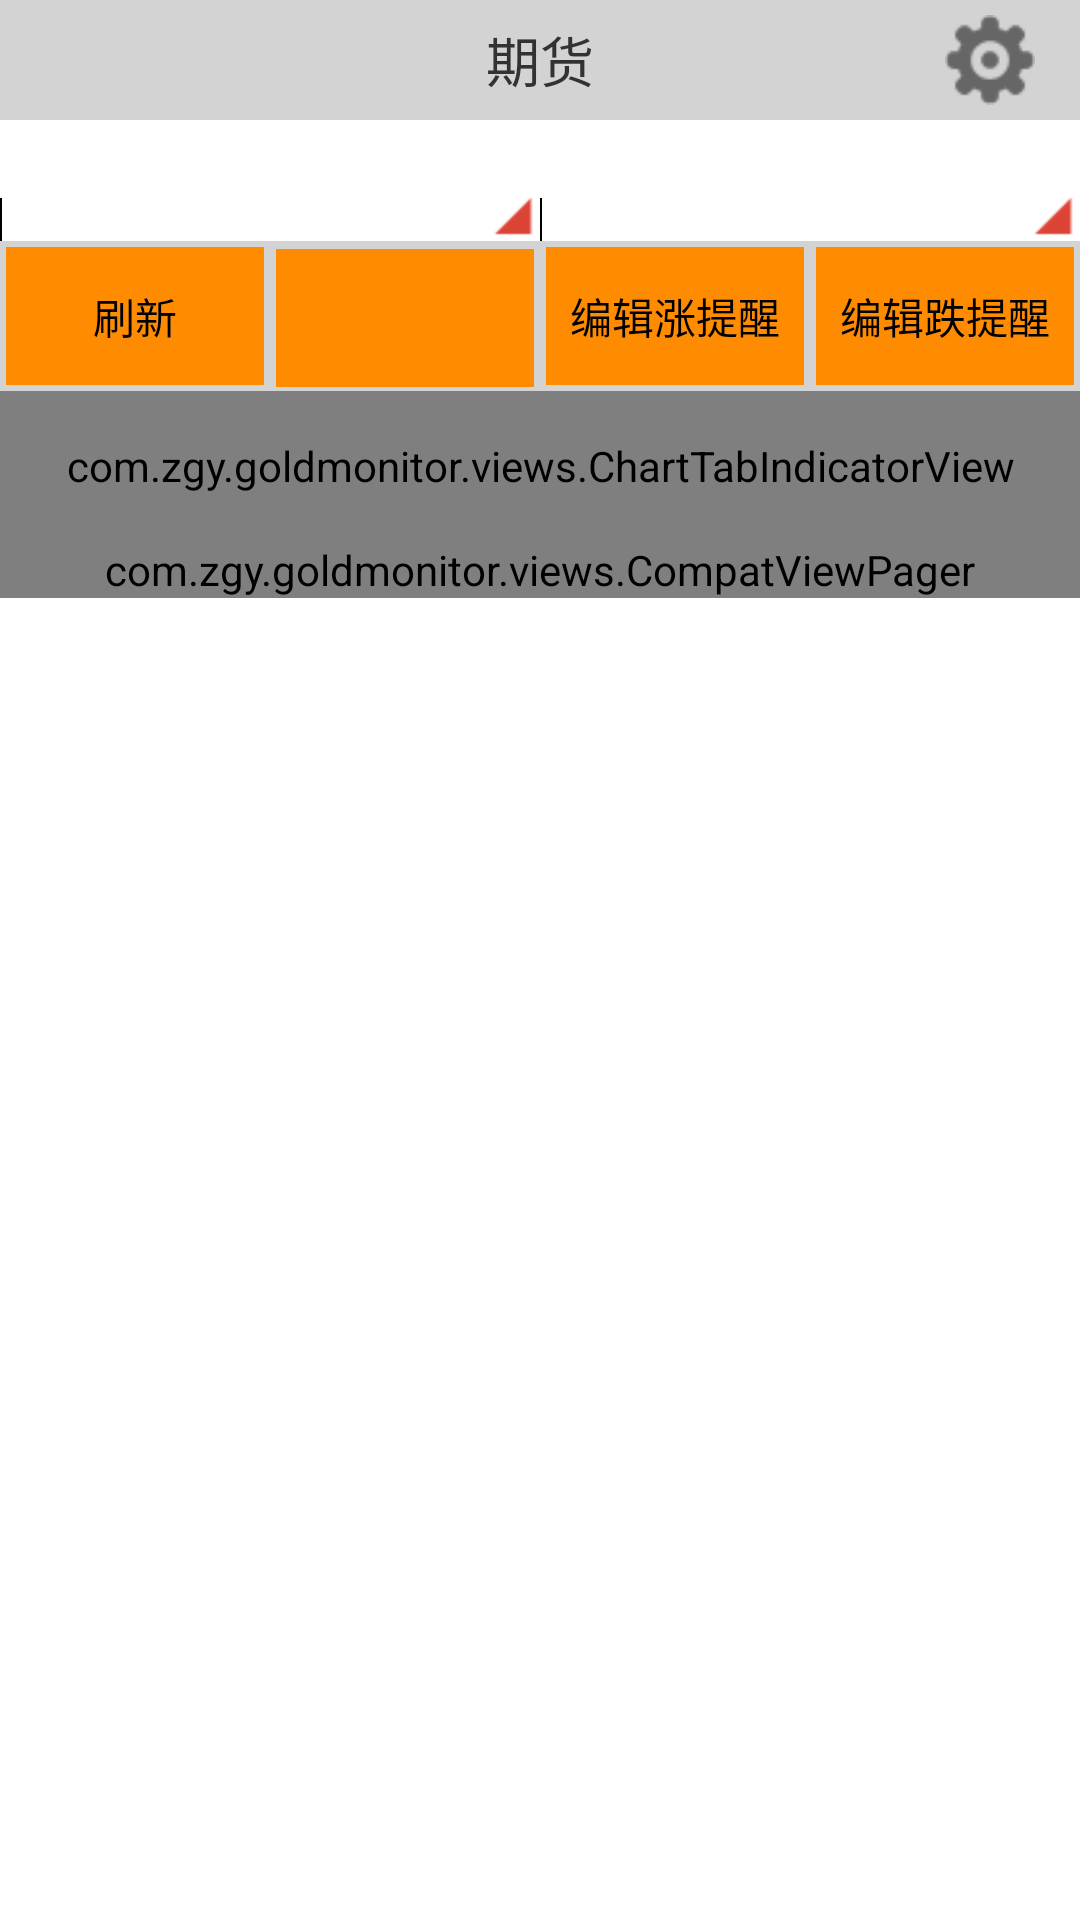

Screen size 1080*1920. Icon name, then its center in pixels as (x,y):
selecter setting: (990,59)
